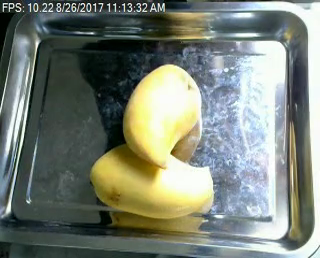Mango: (89, 146, 216, 222), (119, 59, 201, 168)
